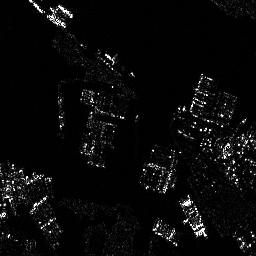ship: (57, 3, 73, 18)
